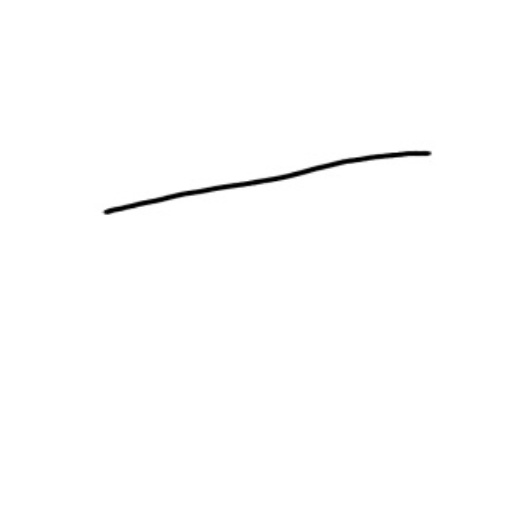line: (85, 141, 445, 230)
